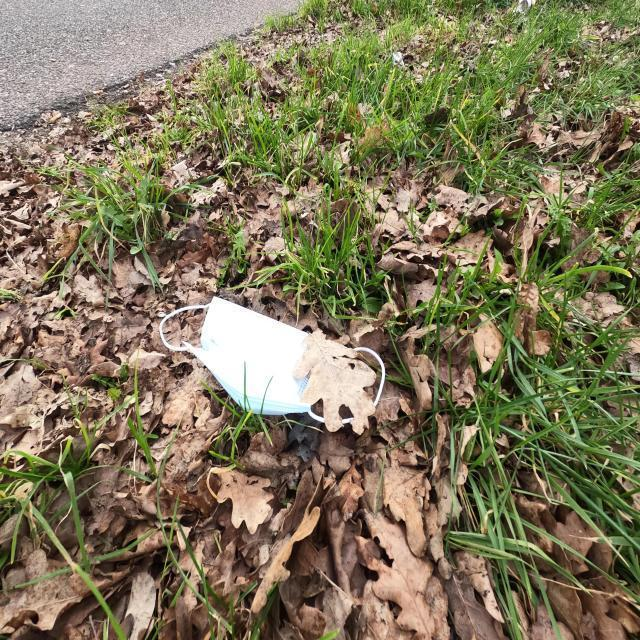Mask: (157, 298, 391, 426)
